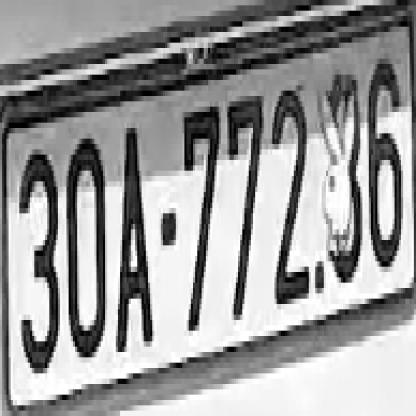0: (69, 139, 105, 352)
2: (272, 90, 307, 298)
3: (17, 155, 58, 368)
6: (367, 64, 399, 267)
7: (227, 96, 262, 315), (184, 117, 216, 320)
A: (120, 128, 152, 347)
